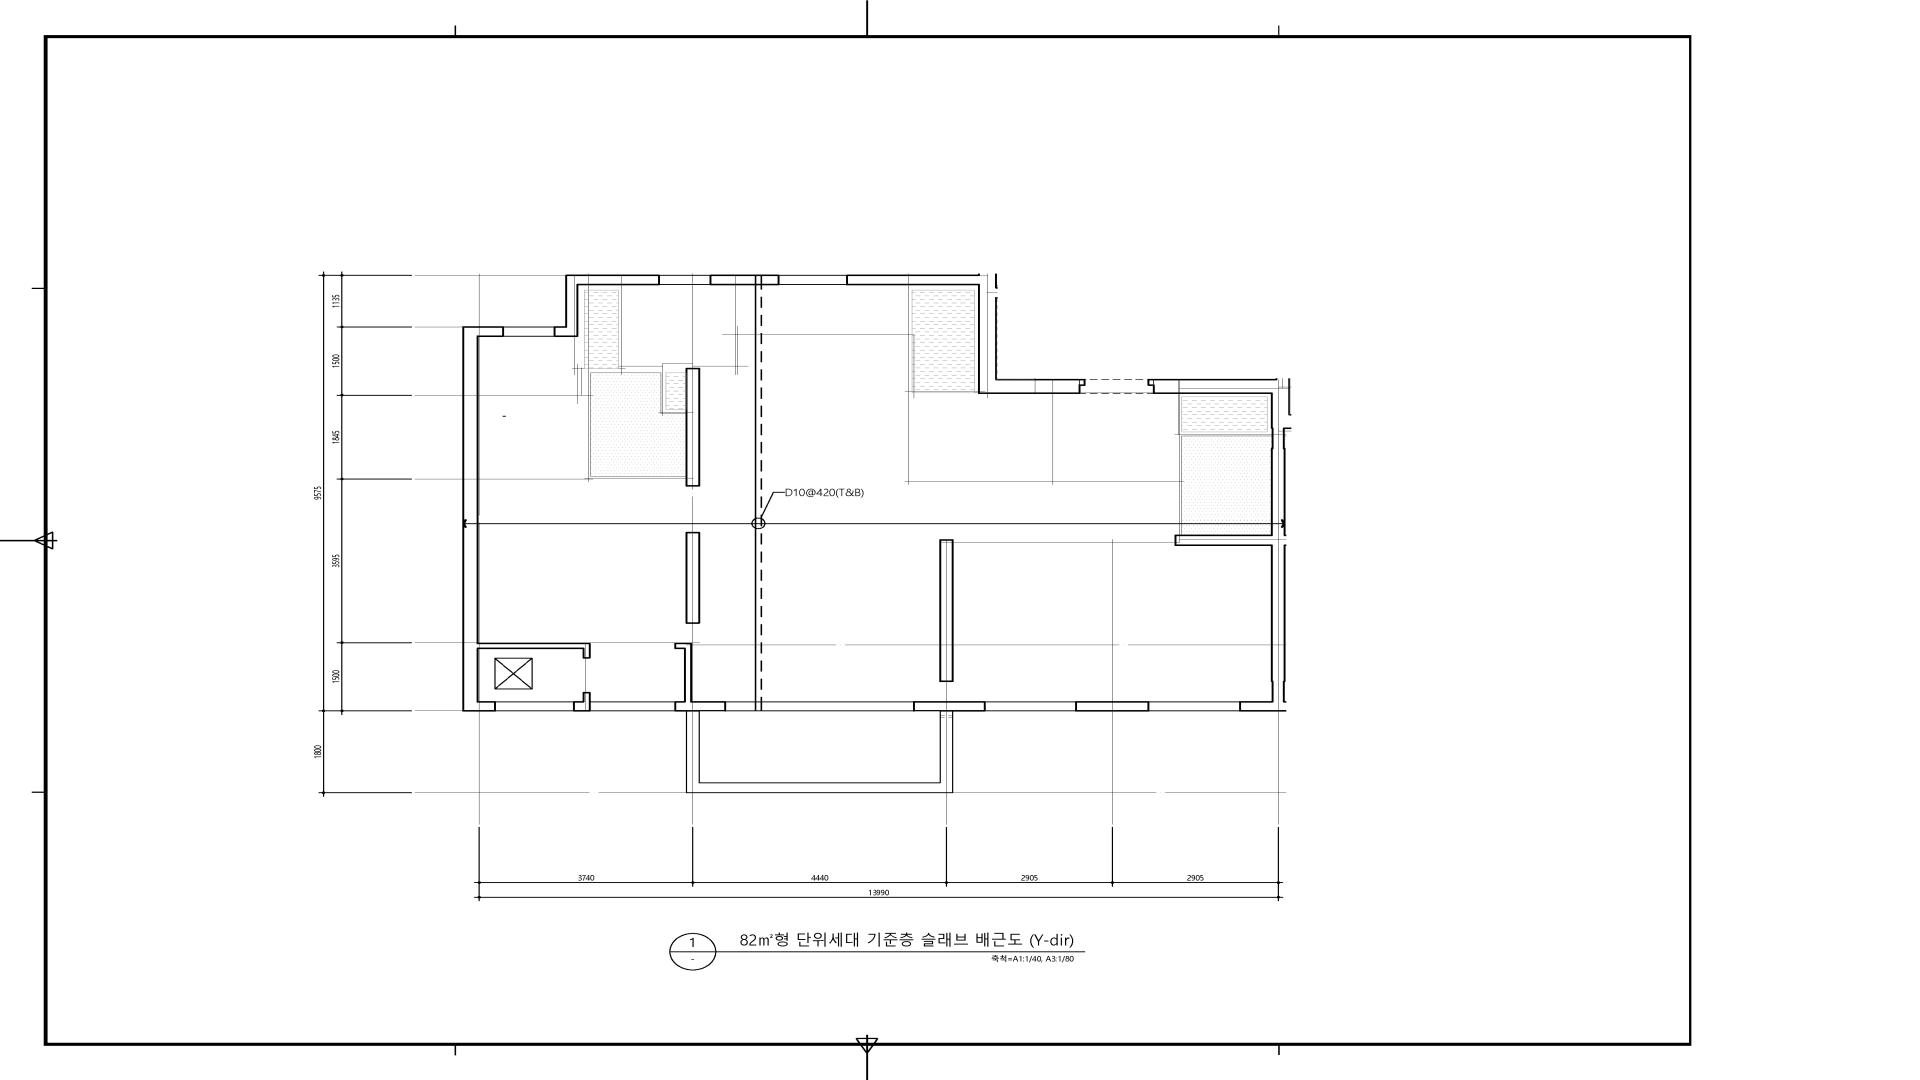wall: (463, 338, 479, 702), (1271, 429, 1286, 702), (1153, 378, 1290, 394), (939, 539, 953, 682), (978, 286, 997, 394), (686, 368, 700, 487), (847, 274, 997, 285), (686, 531, 700, 624), (997, 378, 1080, 394), (1174, 534, 1271, 546), (579, 274, 661, 285), (1075, 702, 1150, 712), (913, 702, 985, 712), (709, 274, 779, 285), (479, 642, 583, 649), (566, 274, 579, 326), (1271, 394, 1290, 429), (674, 702, 727, 712), (1240, 702, 1287, 712), (462, 326, 504, 338), (684, 649, 692, 702), (463, 702, 496, 712), (554, 326, 579, 338), (572, 702, 591, 712), (583, 642, 591, 659), (674, 642, 692, 649), (583, 692, 591, 702), (1080, 378, 1085, 386), (1147, 378, 1153, 386)
